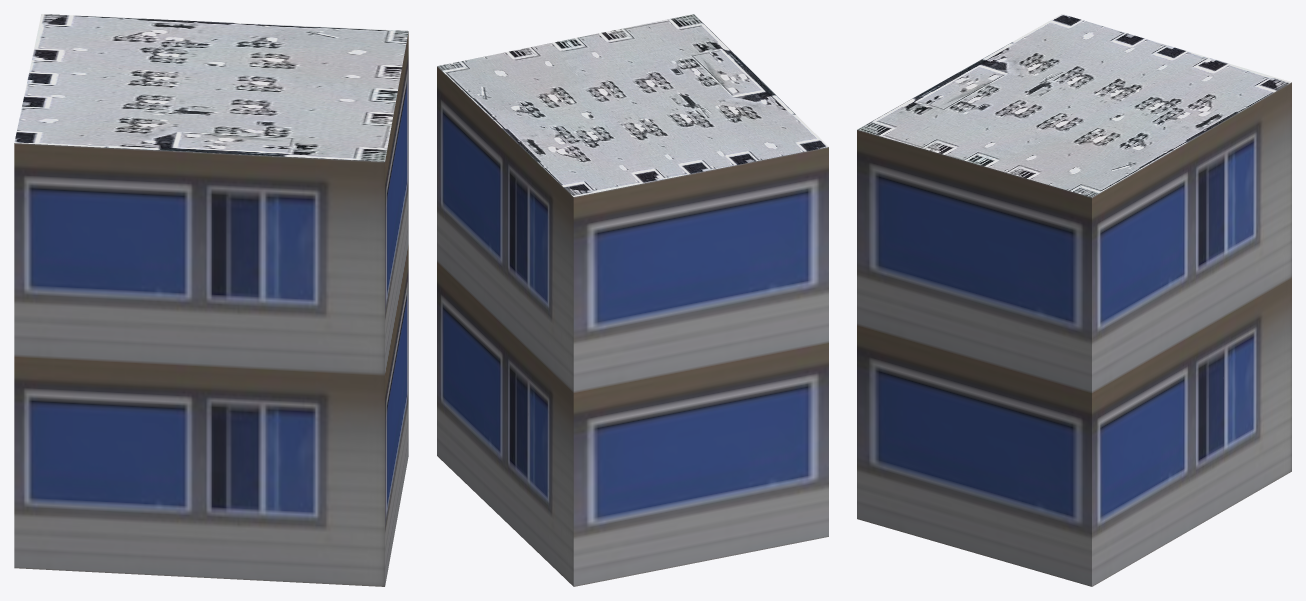
File: ResTex__1892.fbx
3 renders of one model, left to right at view 1: azimuth 30°, elevation 25°; view 2: azimuth 150°, elevation 25°; view 3: azimuth 270°, elevation 25°, orthographic. The views are drawn at different scales.
Visible parts, largest first — view 1: CityEngineMaterial_23_m, CityEngineMaterial_m; view 2: CityEngineMaterial_23_m, CityEngineMaterial_m; view 3: CityEngineMaterial_23_m, CityEngineMaterial_m.
Part boxes in pixels (bbox=[...]): CityEngineMaterial_23_m: bbox=[14, 32, 408, 586]; CityEngineMaterial_m: bbox=[14, 14, 408, 161]; CityEngineMaterial_23_m: bbox=[437, 66, 828, 586]; CityEngineMaterial_m: bbox=[437, 14, 828, 196]; CityEngineMaterial_23_m: bbox=[857, 82, 1291, 586]; CityEngineMaterial_m: bbox=[857, 14, 1291, 197].
Bounding box in the file's own units: 6.07 × 6 × 6.07.
Materials: 2 (2 with a texture image).
